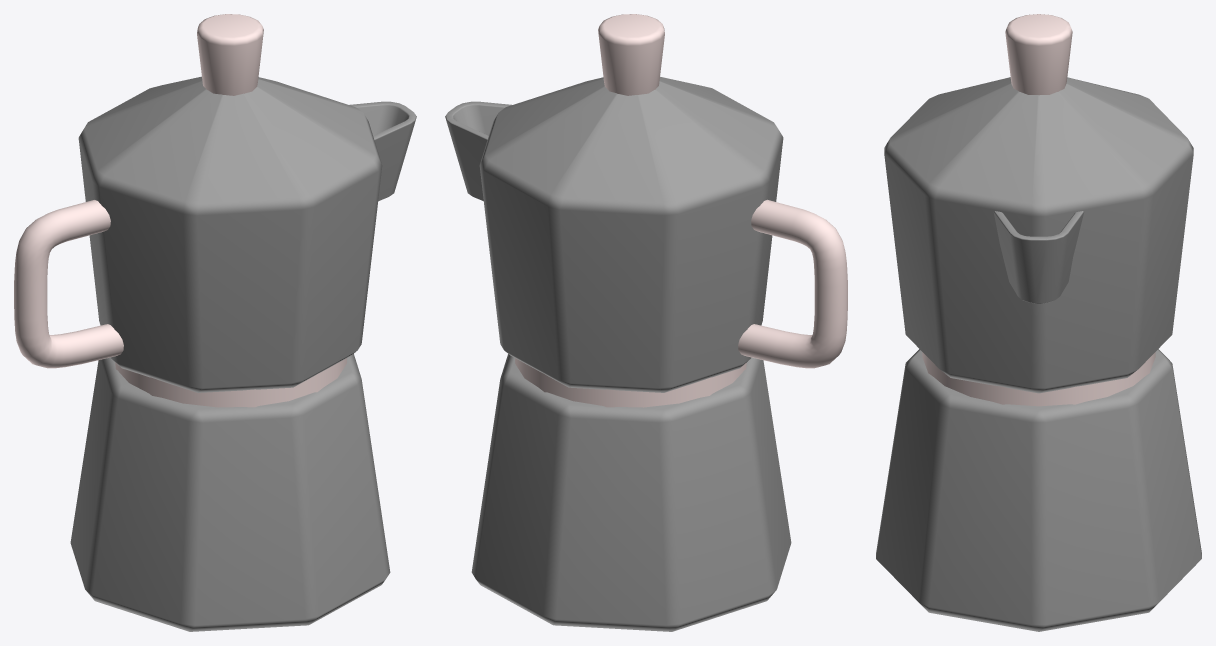
File: Store_18_Coffee_Maker_1.glb
3 views of the same model, side by side, from view 1: azimuth 30°, elevation 25°; view 2: azimuth 150°, elevation 25°; view 3: azimuth 270°, elevation 25° (orthographic).
Parts seen in each view (by area): view 1: Store_18_Coffee_Maker_1; view 2: Store_18_Coffee_Maker_1; view 3: Store_18_Coffee_Maker_1.
Boxes of the visible parts, <box> form: Store_18_Coffee_Maker_1: <box>14,14,416,631</box>; Store_18_Coffee_Maker_1: <box>445,14,847,631</box>; Store_18_Coffee_Maker_1: <box>876,14,1201,631</box>.
Bounding box in the file's own units: 0.3644 × 0.4793 × 0.2619.
Materials: 1 (1 with a texture image).
